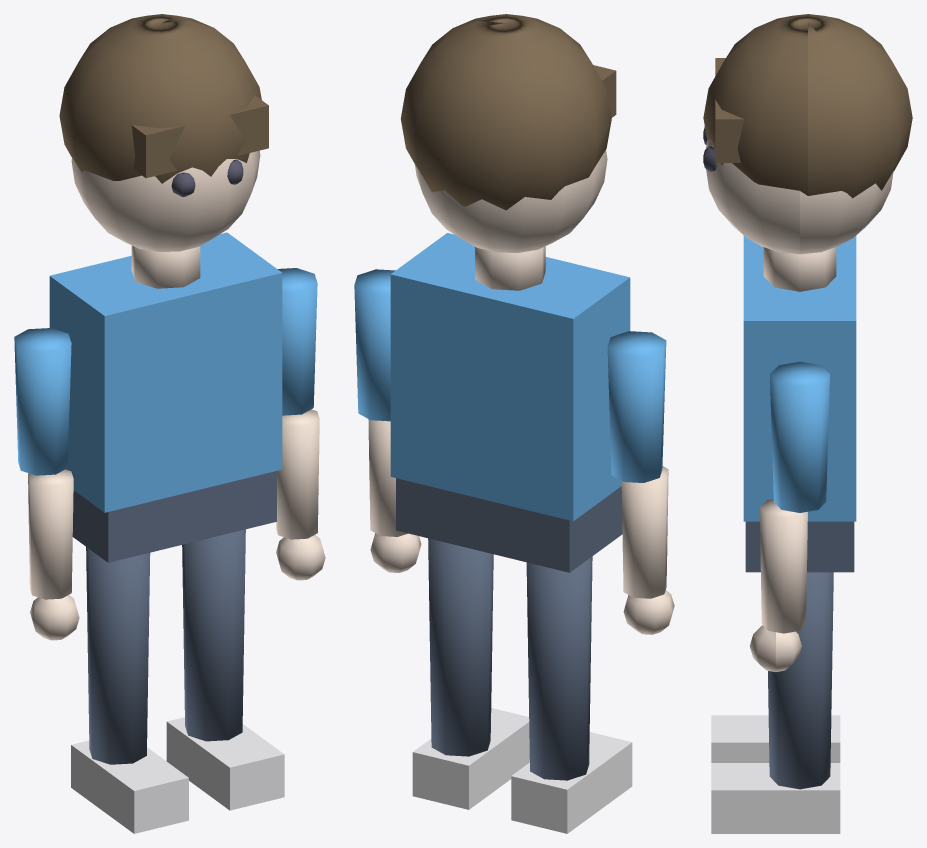
Rendered from 7a9d03bd-4ab1-4089-9ddc-35ad8480f252.glb.
3 views of the same model, side by side, from view 1: azimuth 30°, elevation 25°; view 2: azimuth 150°, elevation 25°; view 3: azimuth 270°, elevation 25° (orthographic). The views are drawn at different scales.
Visible parts, largest first — view 1: Generated3DMesh; view 2: Generated3DMesh; view 3: Generated3DMesh.
Part boxes in pixels (x1,y1,x2,y2): Generated3DMesh: [14, 14, 325, 833]; Generated3DMesh: [354, 14, 674, 833]; Generated3DMesh: [703, 14, 912, 833].
Bounding box in the file's own units: 0.87 × 2.12 × 0.5203.
